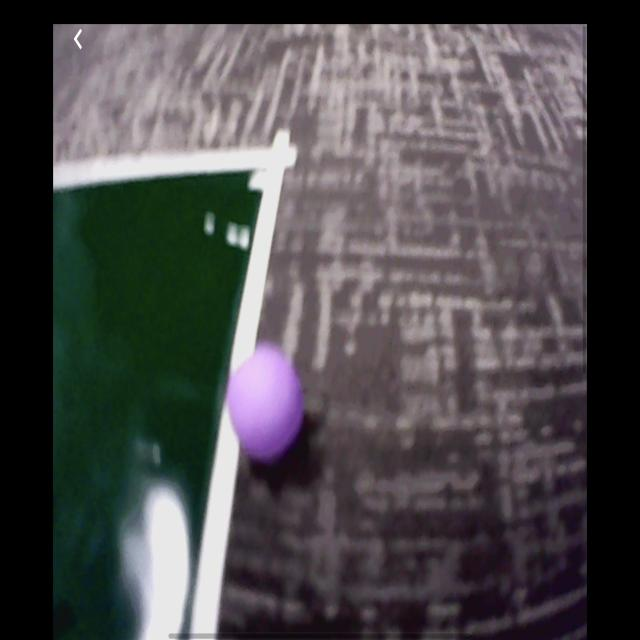ball: (226, 340, 306, 466)
